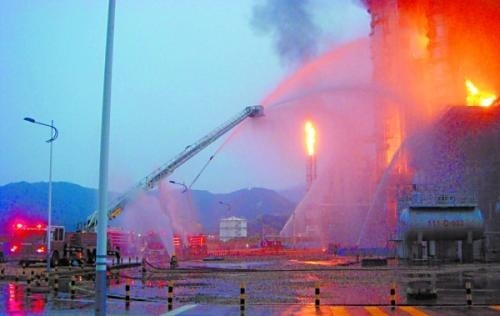fire: (382, 106, 407, 166), (462, 75, 500, 107), (303, 117, 318, 155)
